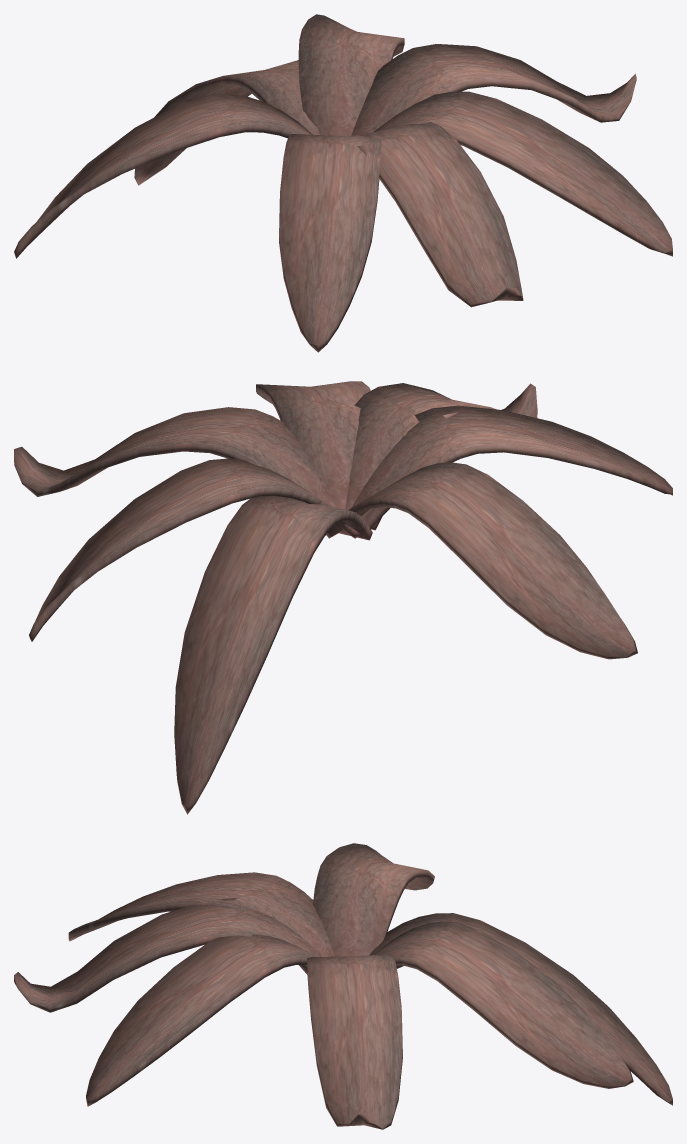
File: calyx7_sb2_b.dae
3 views of the same model, one above another, from view 1: azimuth 30°, elevation 25°; view 2: azimuth 150°, elevation 25°; view 3: azimuth 270°, elevation 25° (orthographic). The views are drawn at different scales.
Parts seen in each view (by area): view 1: calyx6_001, calyx7_001, calyx6, calyx7, calyx8, calyx8_001, calyx9; view 2: calyx9, calyx8, calyx6_001, calyx7, calyx8_001, calyx6, calyx7_001; view 3: calyx8_001, calyx7, calyx6, calyx7_001, calyx8, calyx6_001, calyx9.
Part boxes in pixels (<box>): calyx6_001: <box>279,134,381,352</box>; calyx7_001: <box>357,122,523,307</box>; calyx6: <box>374,91,672,256</box>; calyx7: <box>351,44,636,135</box>; calyx8: <box>14,94,312,258</box>; calyx8_001: <box>298,14,404,135</box>; calyx9: <box>134,60,319,185</box>; calyx9: <box>174,496,372,814</box>; calyx8: <box>326,462,637,659</box>; calyx6_001: <box>352,405,672,536</box>; calyx7: <box>14,407,337,535</box>; calyx8_001: <box>29,458,359,641</box>; calyx6: <box>256,381,370,509</box>; calyx7_001: <box>345,383,537,530</box>; calyx8_001: <box>373,921,633,1088</box>; calyx7: <box>307,954,402,1129</box>; calyx6: <box>86,934,317,1106</box>; calyx7_001: <box>14,898,321,1012</box>; calyx8: <box>313,843,434,956</box>; calyx6_001: <box>68,872,335,974</box>; calyx9: <box>369,913,672,1105</box>.
Size of the model in its own units: 0.1328 by 0.1334 by 0.0455.
Materials: 7 (7 with a texture image).
